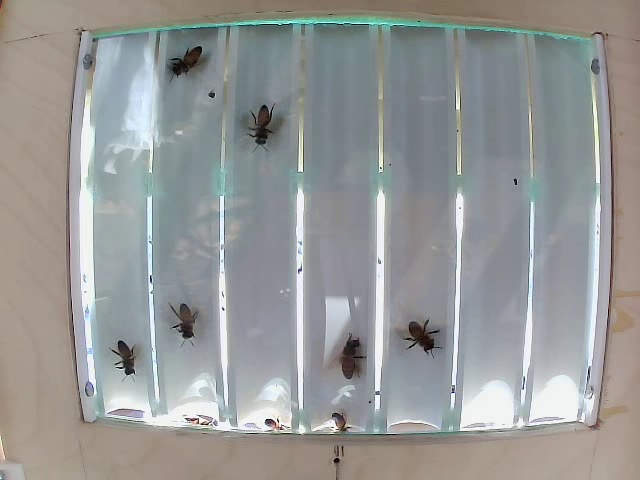bee: (162, 297, 221, 344), (157, 38, 208, 85), (115, 330, 153, 383), (248, 100, 282, 149), (337, 337, 364, 387), (402, 320, 439, 356)
